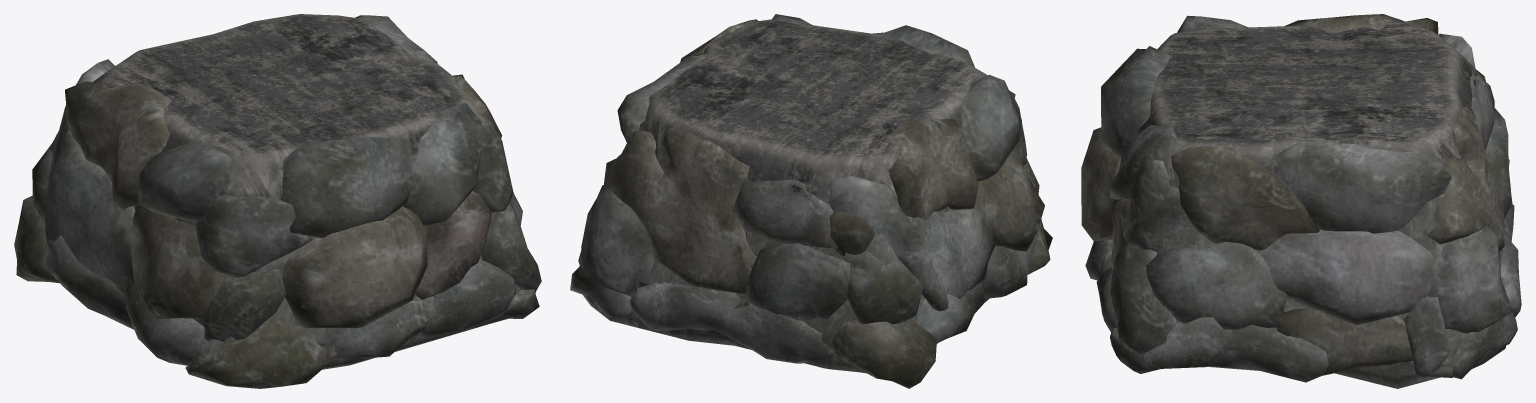
The picture shows the model from 3 angles, left to right: view 1: azimuth 30°, elevation 25°; view 2: azimuth 150°, elevation 25°; view 3: azimuth 270°, elevation 25°; orthographic projection. The views are drawn at different scales.
Visible parts, largest first — view 1: Base3; view 2: Base3; view 3: Base3.
Part boxes in pixels (x1,y1,x2,y2): Base3: (14, 14, 541, 388); Base3: (570, 14, 1052, 388); Base3: (1081, 14, 1521, 388).
Bounding box in the file's own units: 1.79 × 1 × 1.76.
